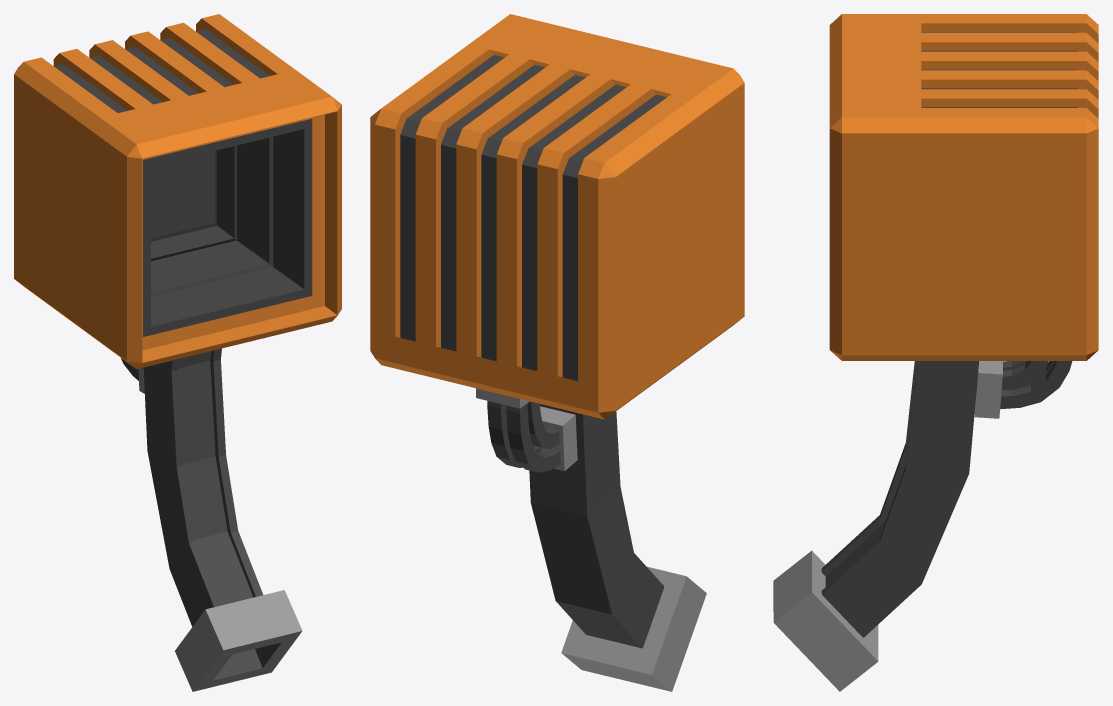
Rendered from Lanza Misiles Nave.fbx.
3 views of the same model, side by side, from view 1: azimuth 30°, elevation 25°; view 2: azimuth 150°, elevation 25°; view 3: azimuth 270°, elevation 25° (orthographic). The views are drawn at different scales.
Visible parts, largest first — view 1: Lanza Misiles Nave; view 2: Lanza Misiles Nave; view 3: Lanza Misiles Nave.
Boxes of the visible parts, x1,y1,x2,y2 form: Lanza Misiles Nave: (14,14,341,691); Lanza Misiles Nave: (370,14,744,691); Lanza Misiles Nave: (773,14,1098,691).
Bounding box in the file's own units: 176 × 439 × 213.
